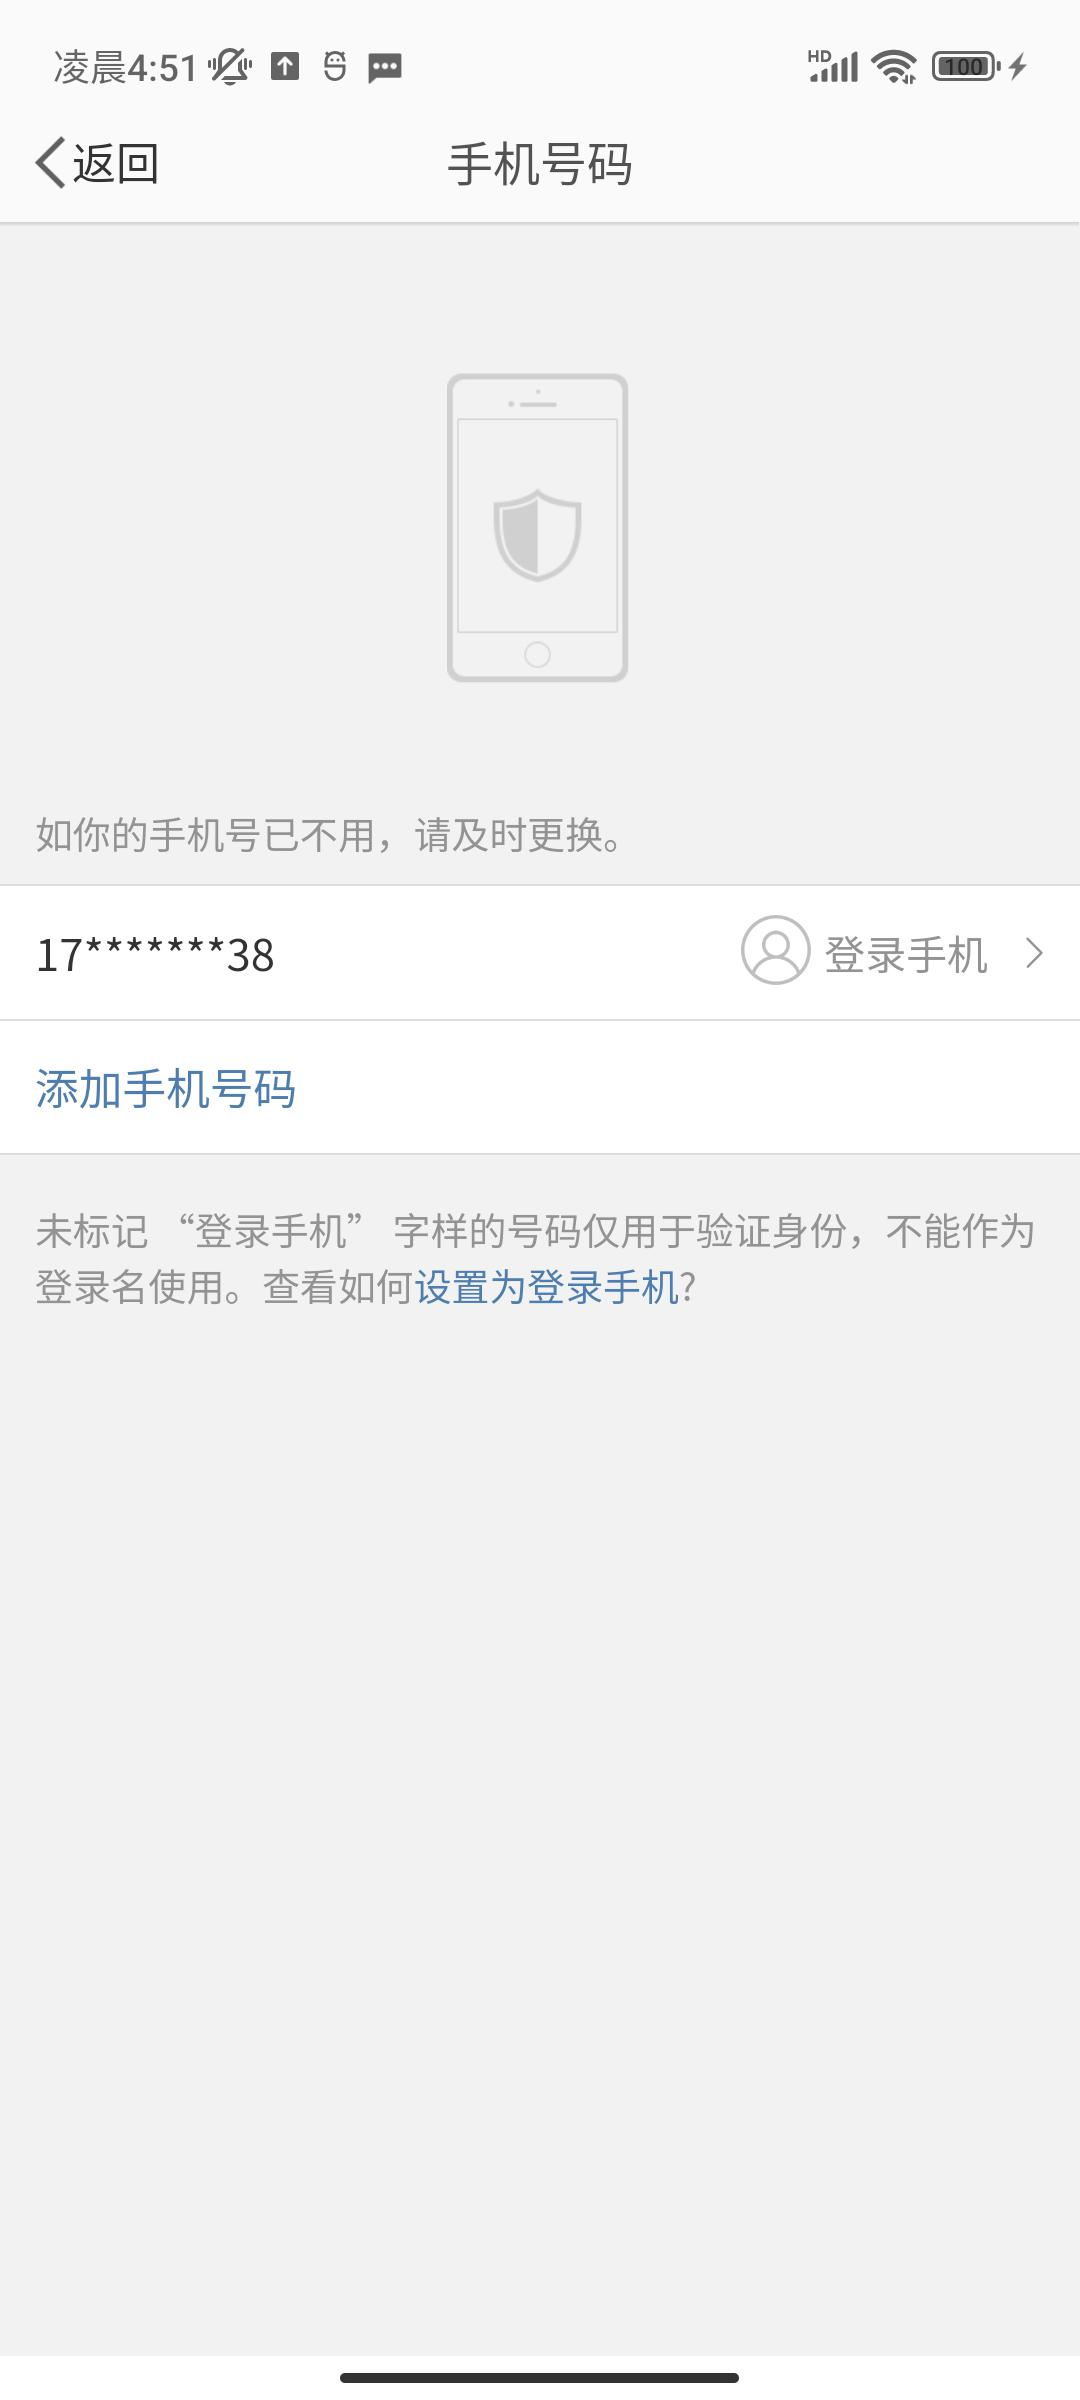ui_group: (2, 891, 1080, 1024)
